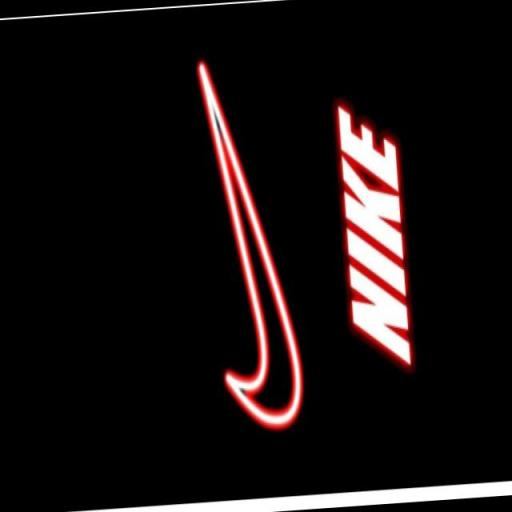Nike: (190, 53, 311, 452)
